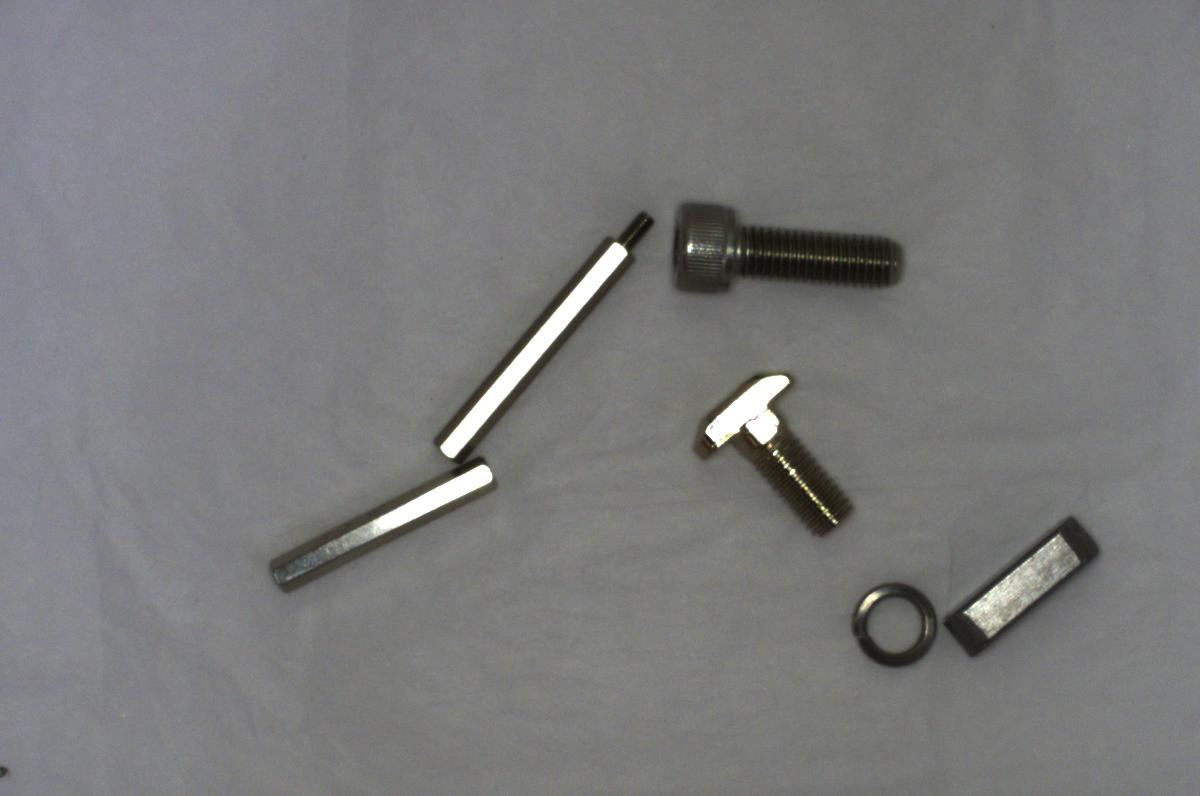Double hexagonal column: (257, 448, 498, 598)
Hexagon screw: (662, 194, 918, 309)
Hexagonal steel column: (426, 200, 648, 465)
Keybar: (940, 515, 1106, 652)
Spring washer: (828, 568, 945, 678)
T-shaped screw: (700, 361, 853, 533)
